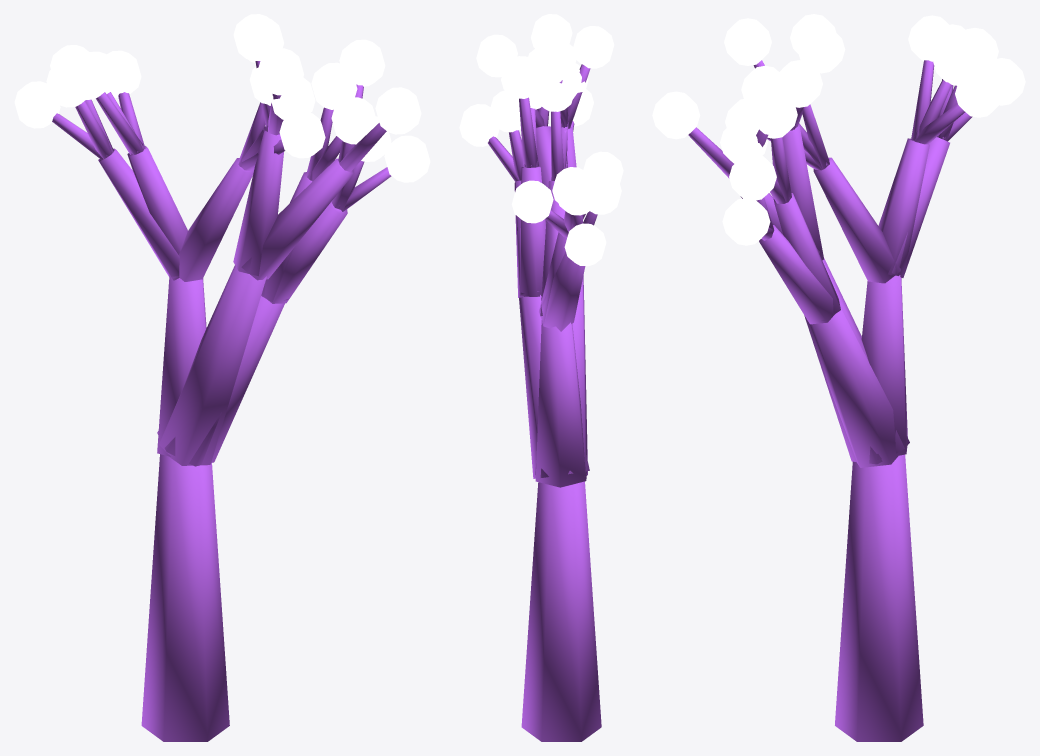
Rendered from more-koral.glb.
3 views of the same model, side by side, from view 1: azimuth 30°, elevation 25°; view 2: azimuth 150°, elevation 25°; view 3: azimuth 270°, elevation 25° (orthographic). The views are drawn at different scales.
Visible parts, largest first — view 1: more-koral; view 2: more-koral; view 3: more-koral.
Boxes of the visible parts, x1=… form: more-koral: x1=14, y1=14, x2=430, y2=741; more-koral: x1=459, y1=14, x2=623, y2=741; more-koral: x1=652, y1=14, x2=1025, y2=741.
Bounding box in the file's own units: 0.9625 × 2.34 × 1.09.
